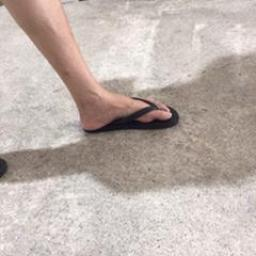Medial View -Left Foot-: (54, 75, 186, 146)
